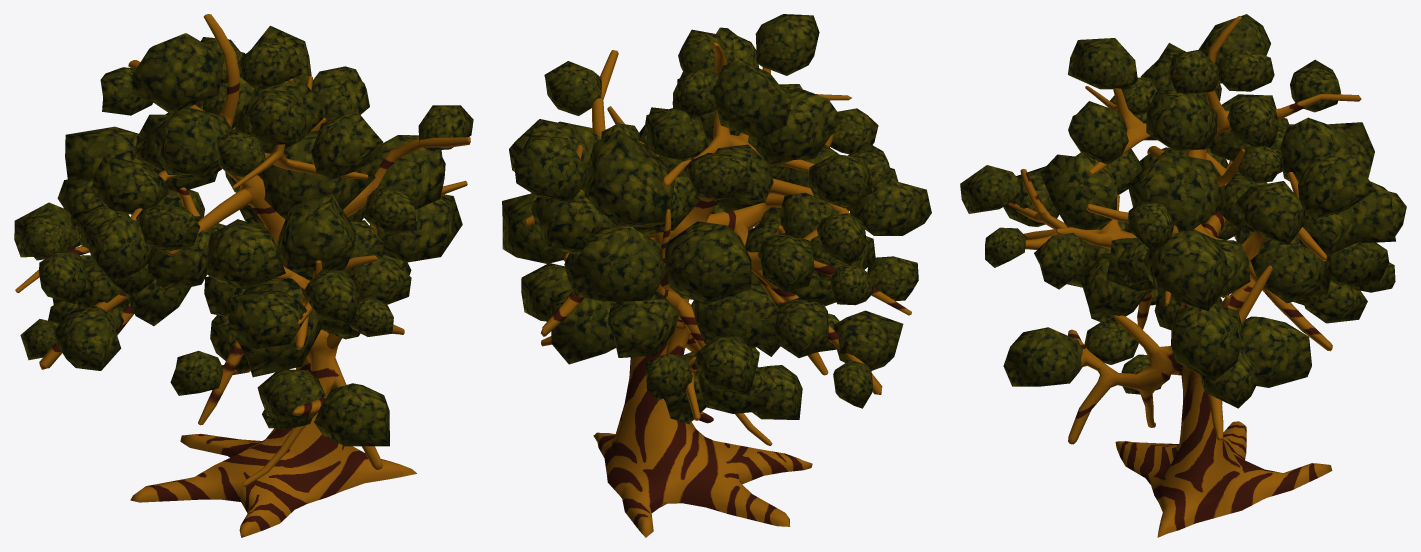
Rendered from tunnel_tree_B_1.fbx.
3 views of the same model, side by side, from view 1: azimuth 30°, elevation 25°; view 2: azimuth 150°, elevation 25°; view 3: azimuth 270°, elevation 25° (orthographic). The views are drawn at different scales.
Visible parts, largest first — view 1: tunnel_Tree_B_leaf_1, tunnel_Tree_B_trunk_B_1; view 2: tunnel_Tree_B_leaf_1, tunnel_Tree_B_trunk_B_1; view 3: tunnel_Tree_B_leaf_1, tunnel_Tree_B_trunk_B_1.
Boxes of the visible parts, x1=… form: tunnel_Tree_B_leaf_1: x1=14, y1=25, x2=473, y2=446; tunnel_Tree_B_trunk_B_1: x1=15, y1=14, x2=470, y2=537; tunnel_Tree_B_leaf_1: x1=502, y1=14, x2=931, y2=423; tunnel_Tree_B_trunk_B_1: x1=525, y1=41, x2=911, y2=537; tunnel_Tree_B_leaf_1: x1=960, y1=14, x2=1406, y2=408; tunnel_Tree_B_trunk_B_1: x1=1007, y1=16, x2=1361, y2=537.
Size of the model in its own units: 1265 by 1318 by 1201.
